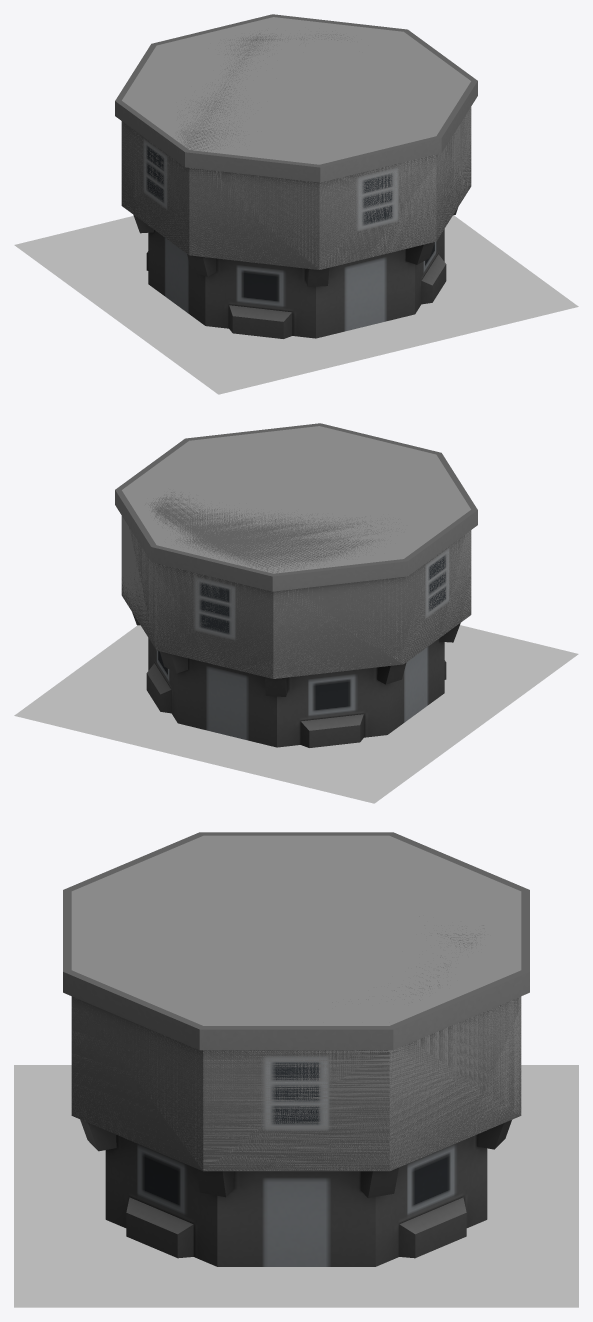
The model's file is 3x3_wizard_tower.FBX.
3 renders of one model, top to bottom at view 1: azimuth 30°, elevation 25°; view 2: azimuth 150°, elevation 25°; view 3: azimuth 270°, elevation 25°, orthographic. The views are drawn at different scales.
Parts seen in each view (by area): view 1: 3x3_wizard_tower, 3x3_wizard_tower_shadow_caster, 3x3_wizard_tower_soft_shadow; view 2: 3x3_wizard_tower, 3x3_wizard_tower_shadow_caster, 3x3_wizard_tower_soft_shadow; view 3: 3x3_wizard_tower, 3x3_wizard_tower_shadow_caster, 3x3_wizard_tower_soft_shadow.
Boxes of the visible parts, x1,y1,x2,y2 form: 3x3_wizard_tower: [115, 14, 477, 338]; 3x3_wizard_tower_shadow_caster: [121, 17, 471, 269]; 3x3_wizard_tower_soft_shadow: [14, 215, 578, 394]; 3x3_wizard_tower: [115, 423, 477, 747]; 3x3_wizard_tower_shadow_caster: [121, 426, 471, 678]; 3x3_wizard_tower_soft_shadow: [14, 625, 578, 803]; 3x3_wizard_tower: [63, 832, 529, 1266]; 3x3_wizard_tower_shadow_caster: [71, 835, 521, 1170]; 3x3_wizard_tower_soft_shadow: [14, 1065, 578, 1307].
Size of the model in its own units: 3656 by 1806 by 3594.
